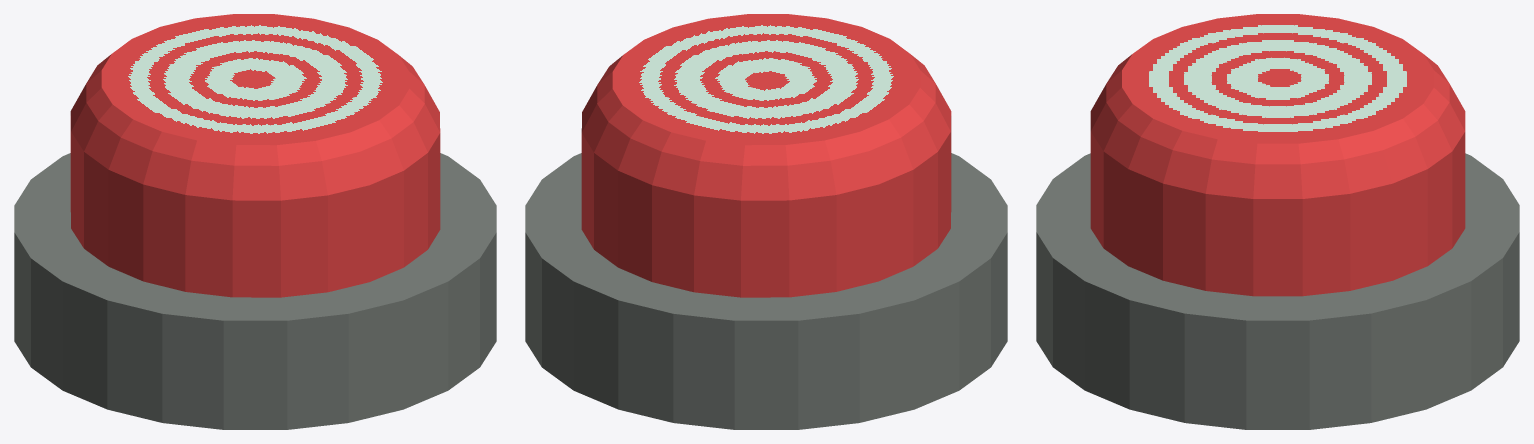
Rendered from Button.gltf.
3 views of the same model, side by side, from view 1: azimuth 30°, elevation 25°; view 2: azimuth 150°, elevation 25°; view 3: azimuth 270°, elevation 25° (orthographic).
Parts seen in each view (by area): view 1: cylinder (×2); view 2: cylinder (×2); view 3: cylinder (×2).
Boxes of the visible parts, bbox=[...] form: cylinder (×2): bbox=[14, 14, 496, 429]; cylinder (×2): bbox=[525, 14, 1007, 429]; cylinder (×2): bbox=[1036, 14, 1519, 429].
Bounding box in the file's own units: 1 × 0.5687 × 1.
Materials: 1 (1 with a texture image).
